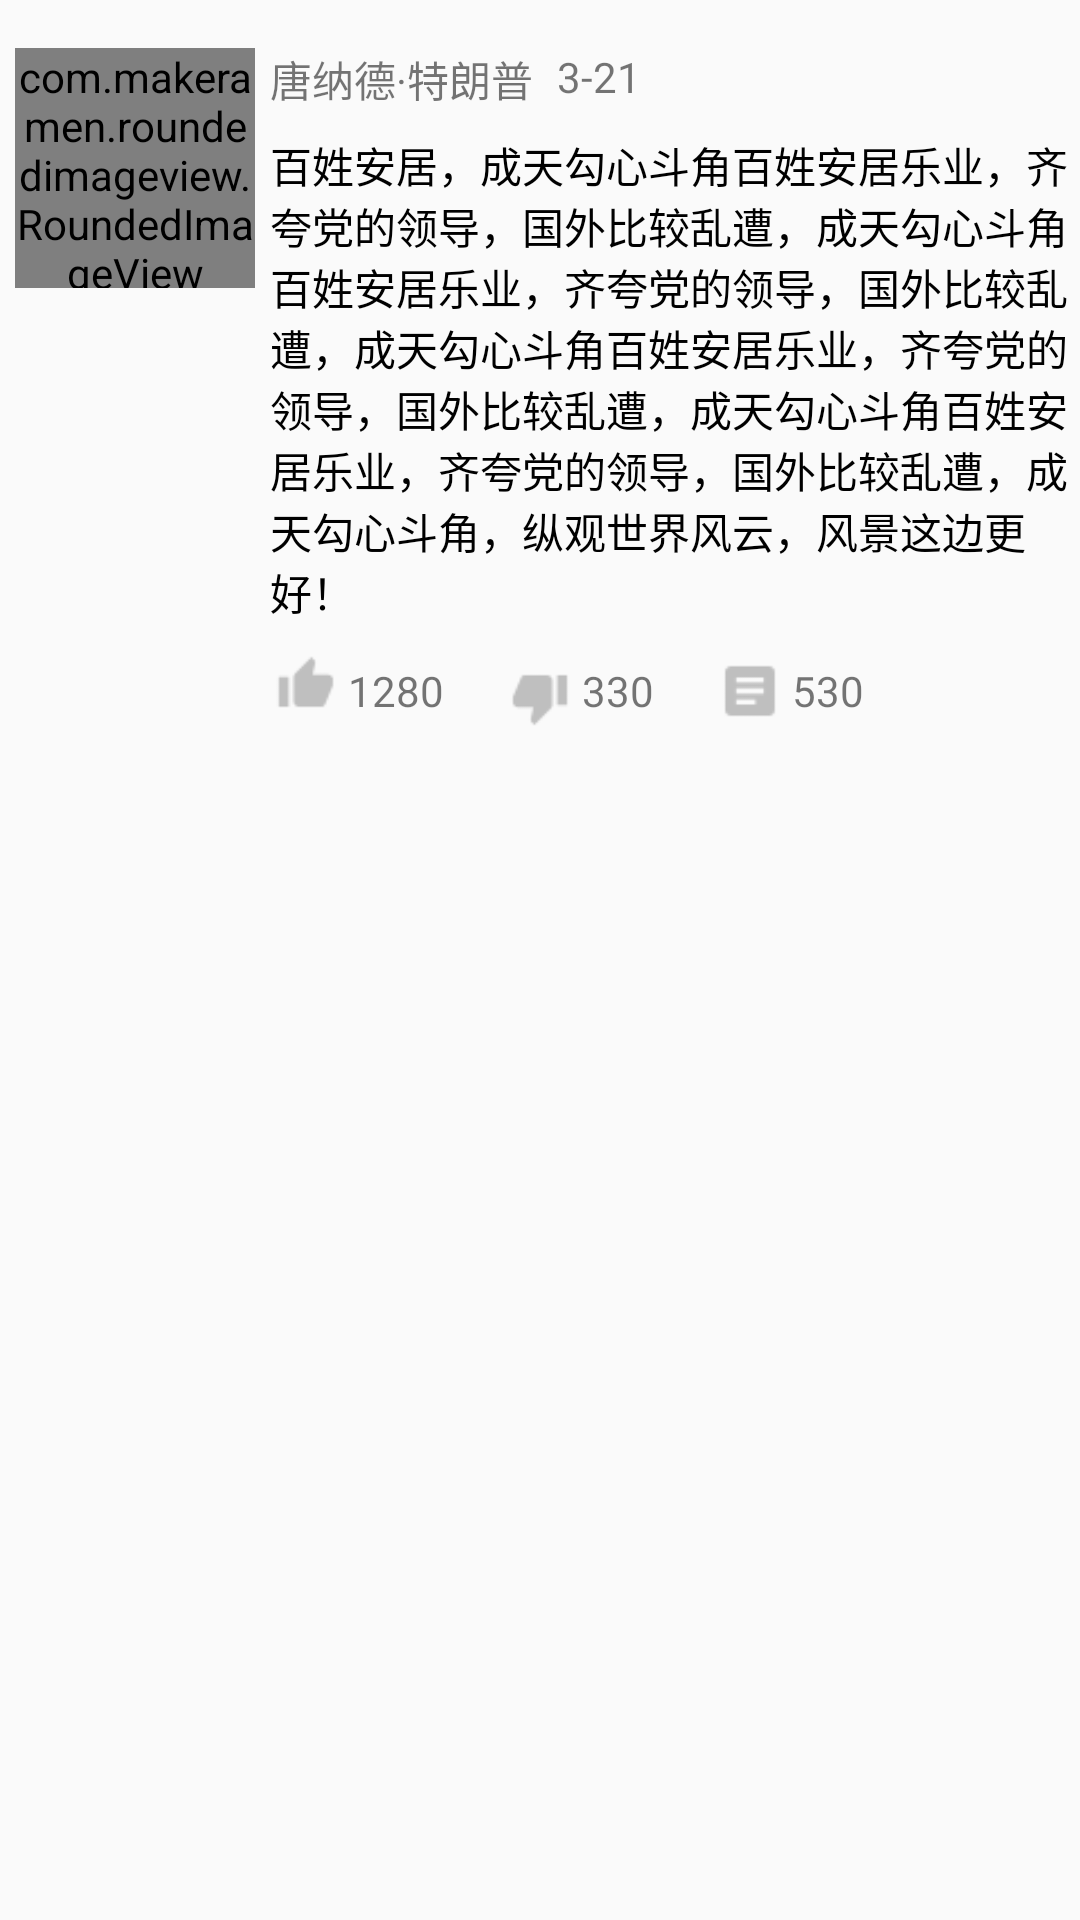

Icons on this 1080px x 1920px Android screen, each with its box as (x1, y1, x2, y2):
cai: (513, 675, 567, 725)
huifu: (725, 666, 775, 716)
zan: (279, 657, 333, 707)
